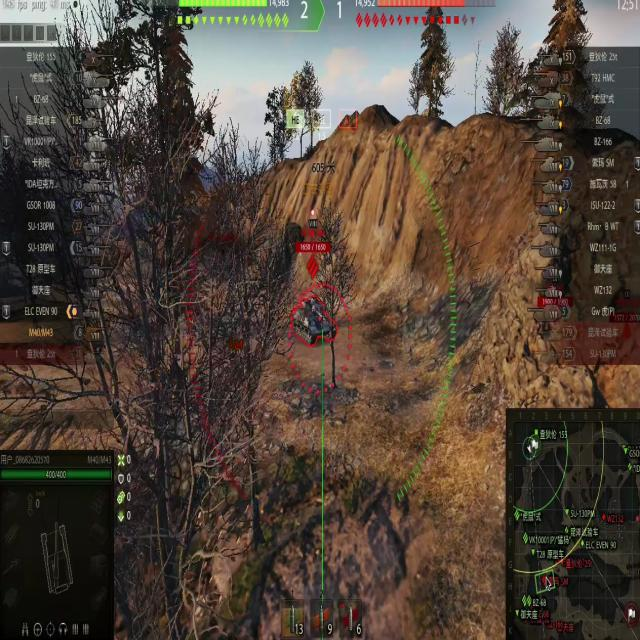tank: (293, 242, 338, 347)
